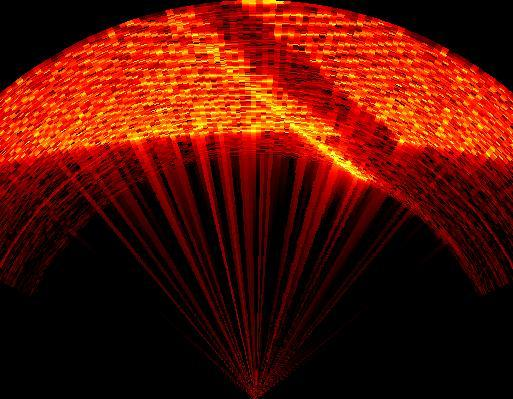pipe: (189, 2, 406, 168)
